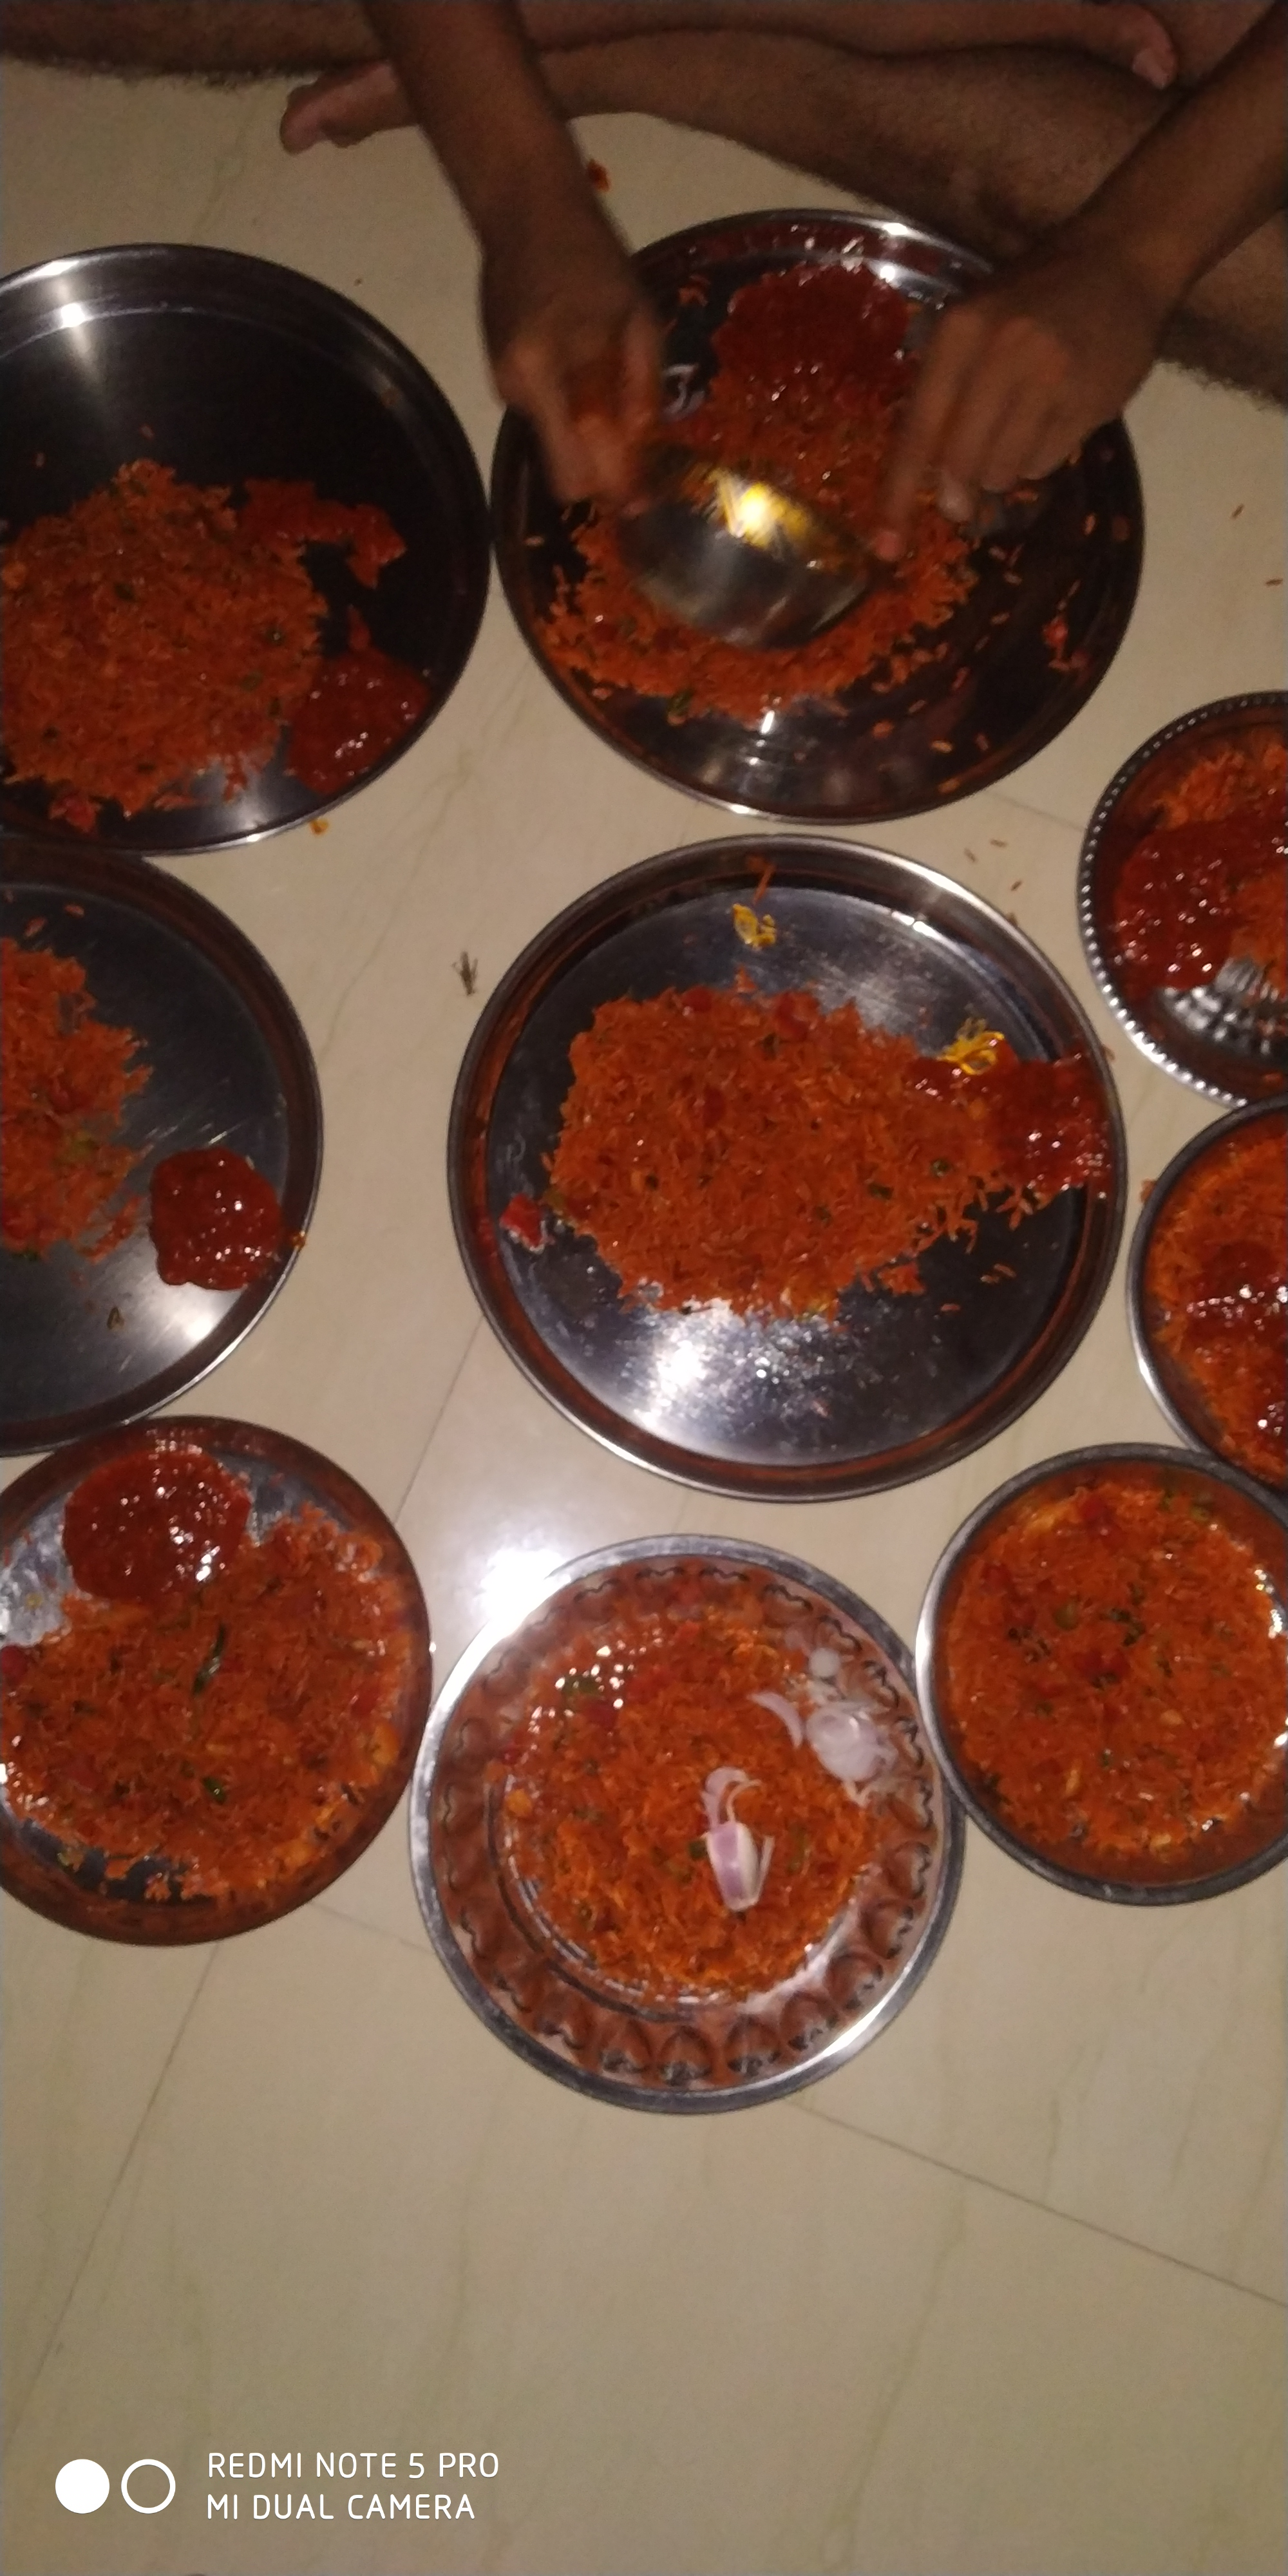food: (522, 237, 1081, 751), (499, 943, 1124, 1382), (0, 1434, 427, 1919), (486, 1549, 884, 2027), (0, 430, 430, 839), (925, 1457, 1288, 1883), (0, 917, 286, 1301), (1088, 683, 1288, 1007), (1134, 1109, 1288, 1482)
